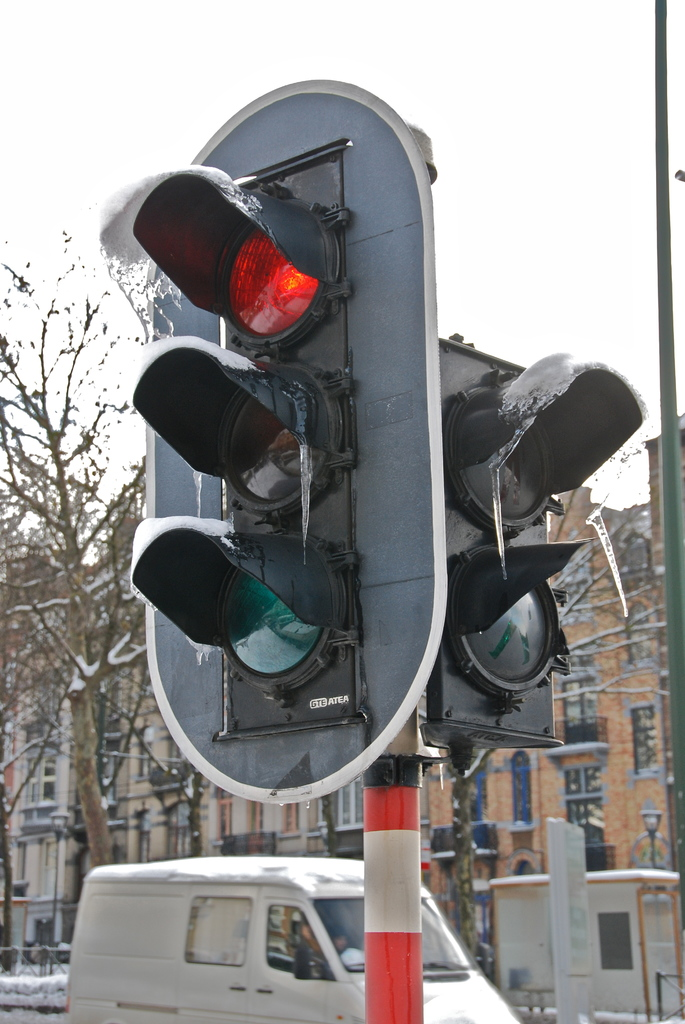red_light: (133, 164, 356, 731)
